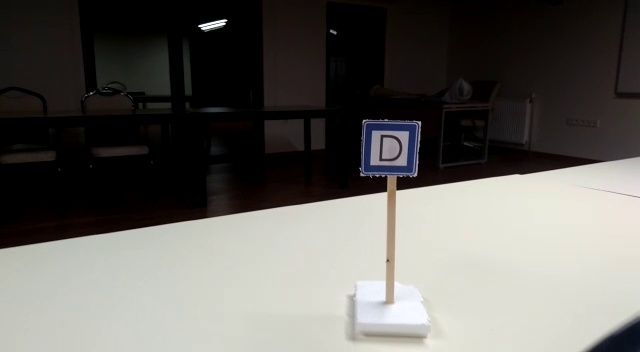durak: (359, 120, 419, 177)
